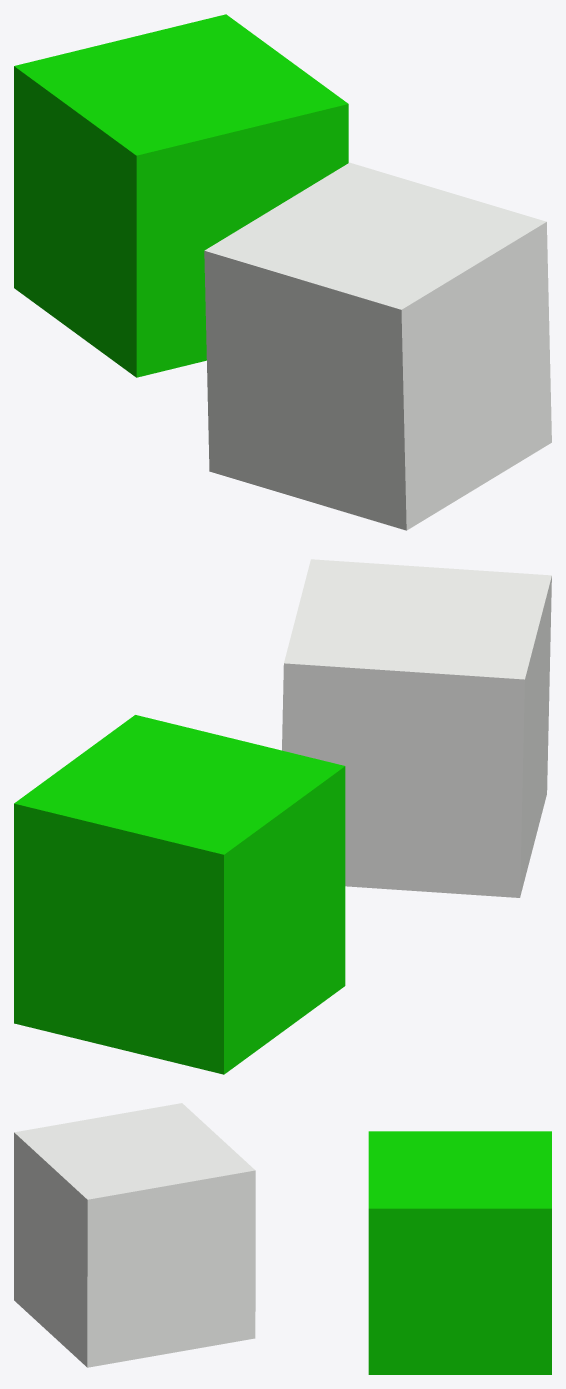
The model's file is test1_cubes.glb.
3 renders of one model, top to bottom at view 1: azimuth 30°, elevation 25°; view 2: azimuth 150°, elevation 25°; view 3: azimuth 270°, elevation 25°, orthographic. The views are drawn at different scales.
Parts seen in each view (by area): view 1: CubeL, CubeR; view 2: CubeR, CubeL; view 3: CubeL, CubeR.
Part boxes in pixels (x1=…): CubeL: x1=204, y1=162, x2=551, y2=530; CubeR: x1=14, y1=14, x2=348, y2=377; CubeR: x1=14, y1=715, x2=345, y2=1074; CubeL: x1=282, y1=559, x2=551, y2=897; CubeL: x1=14, y1=1103, x2=255, y2=1367; CubeR: x1=368, y1=1131, x2=551, y2=1374.
Size of what is drawn, in the model's own units: 2.68 by 2.15 by 5.87.
